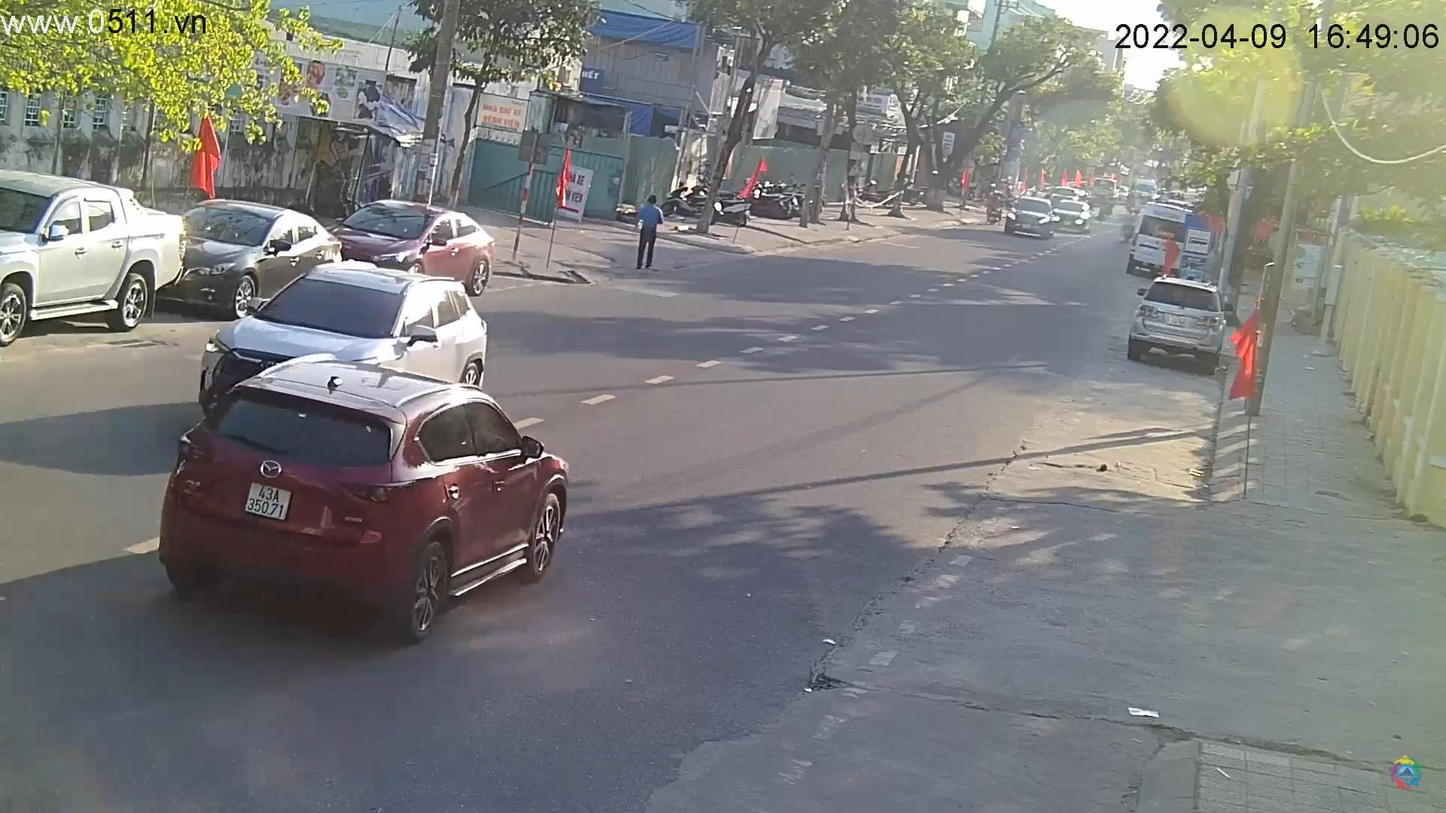car: (197, 263, 491, 419), (2, 171, 189, 349), (169, 201, 352, 319), (330, 199, 496, 295), (1006, 198, 1061, 239), (1051, 200, 1096, 230)
